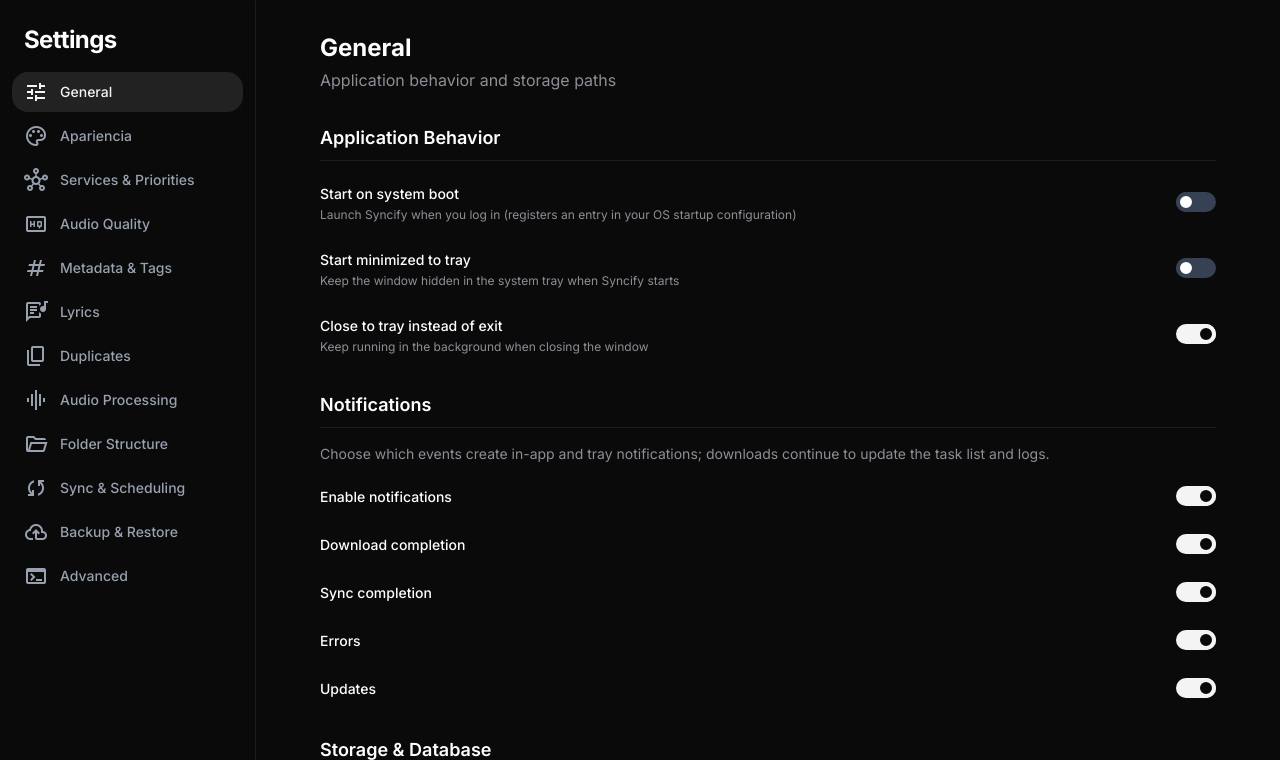
SettingsView › navigates to Advanced category when clicked
The image size is (1280, 760).
Click the button "Advanced".
click(128, 576)  # box [12,556,243,596]
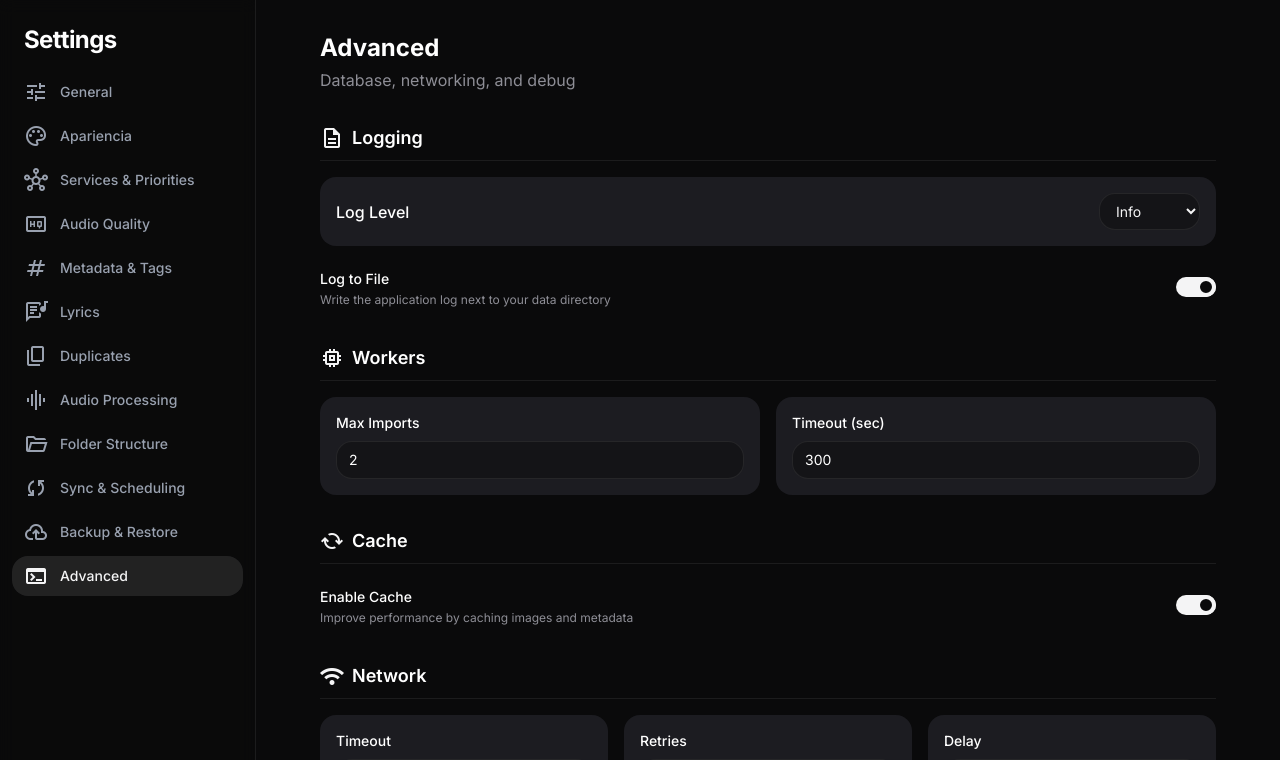
Expected: the text "Database, networking, and debug" is shown, [320,70,576,90]
